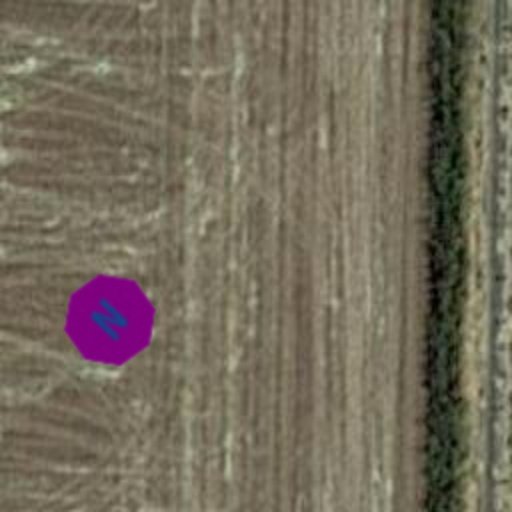octagon: (44, 254, 176, 386)
